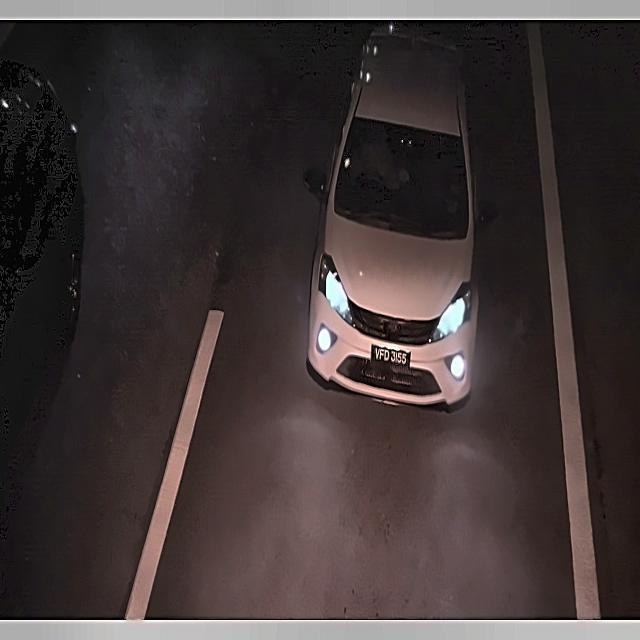car: (368, 342, 412, 373)
